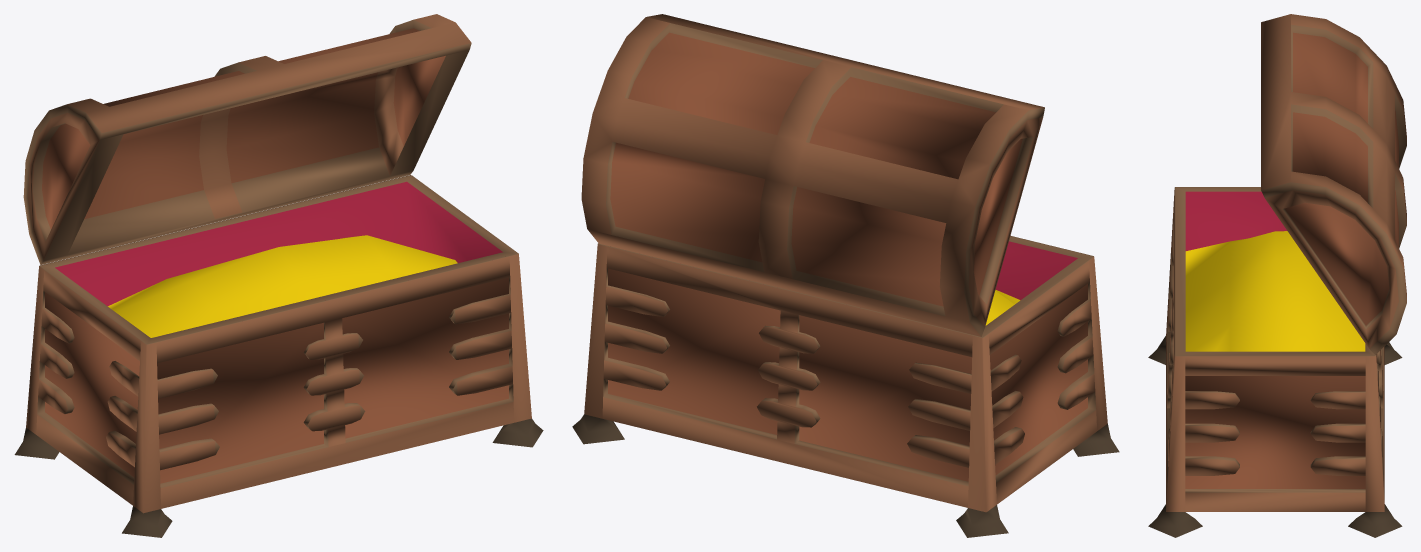
File: chest.fbx
The picture shows the model from 3 angles, left to right: view 1: azimuth 30°, elevation 25°; view 2: azimuth 150°, elevation 25°; view 3: azimuth 270°, elevation 25°; orthographic projection. The views are drawn at different scales.
Visible parts, largest first — view 1: Chest, Lid; view 2: Lid, Chest; view 3: Chest, Lid.
Boxes of the visible parts, bbox=[...] form: Chest: bbox=[14, 175, 543, 537]; Lid: bbox=[23, 14, 471, 264]; Lid: bbox=[581, 14, 1044, 336]; Chest: bbox=[572, 235, 1119, 537]; Chest: bbox=[1148, 187, 1402, 537]; Lid: bbox=[1261, 14, 1406, 354].
Bounding box in the file's own units: 4.55 × 3.8 × 2.59.
